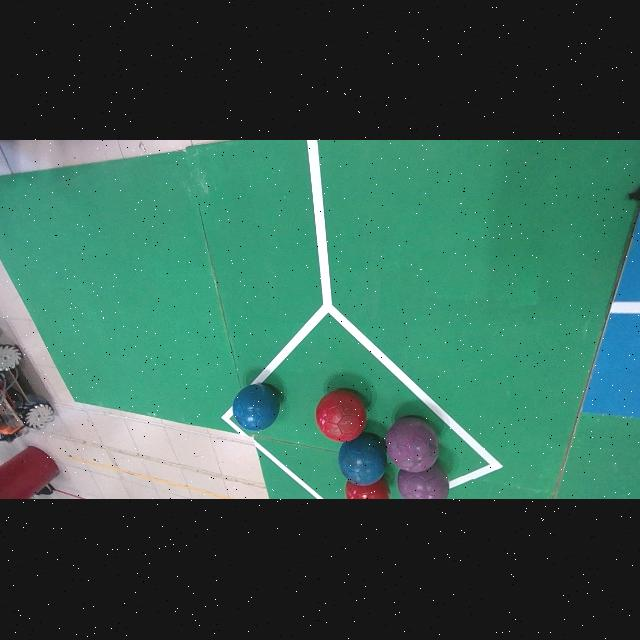B: (338, 435, 387, 487), (233, 386, 280, 432)
P: (386, 418, 439, 474), (398, 464, 450, 500)
R: (315, 391, 367, 444), (345, 478, 390, 500)
